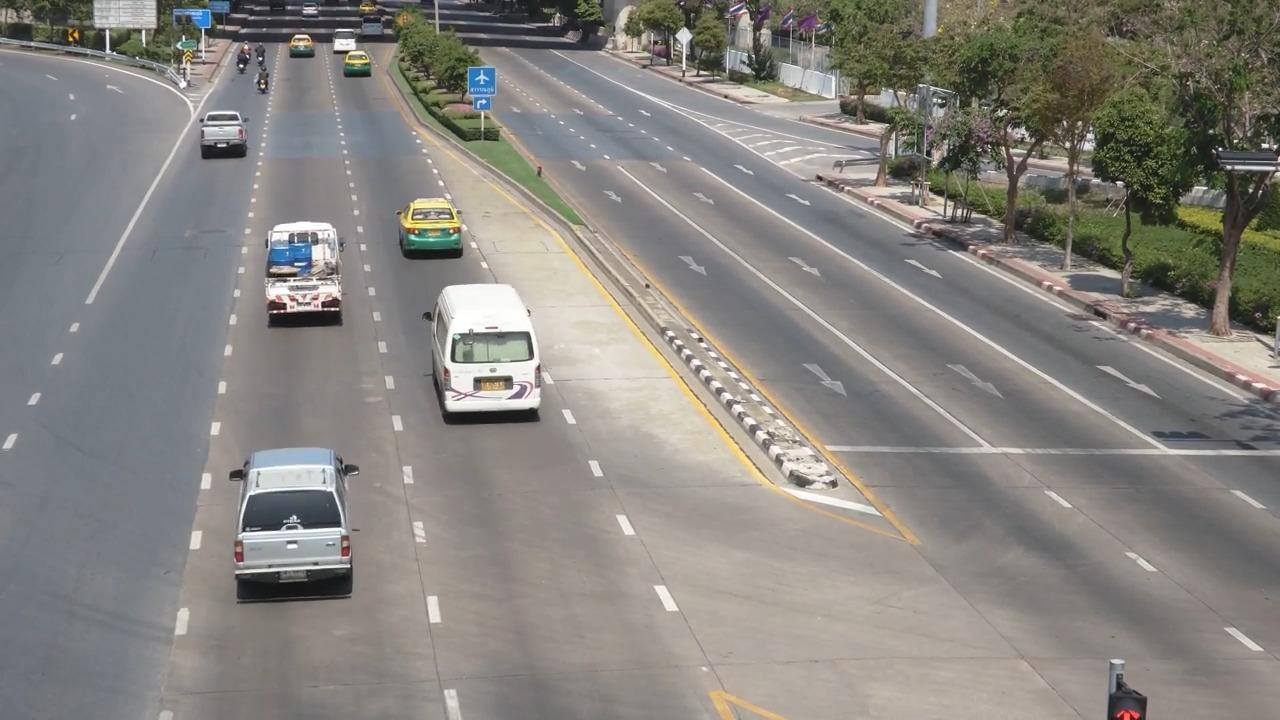CAR: (212, 427, 394, 611), (411, 277, 563, 435), (251, 207, 371, 344), (394, 184, 476, 270), (181, 102, 261, 184), (339, 44, 388, 91), (272, 26, 321, 71), (353, 12, 394, 52), (322, 26, 368, 58)
MOTOR: (225, 42, 254, 83), (250, 67, 283, 103)
